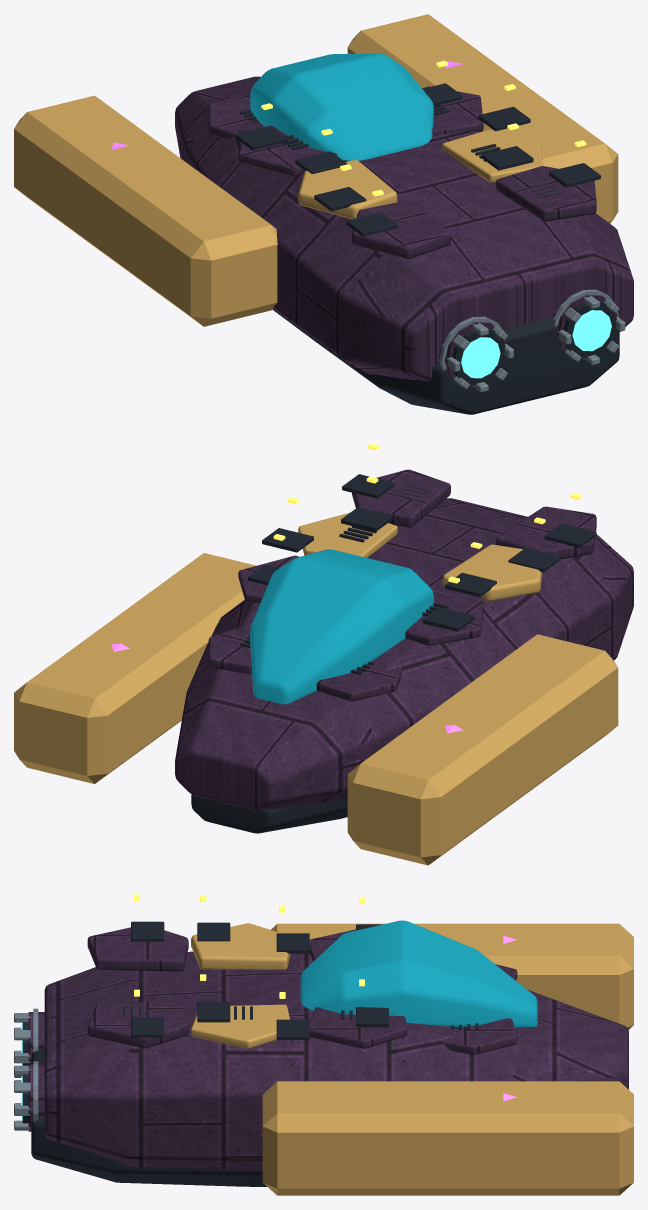
File: quartz.glb
3 views of the same model, one above another, from view 1: azimuth 30°, elevation 25°; view 2: azimuth 150°, elevation 25°; view 3: azimuth 270°, elevation 25° (orthographic). The views are drawn at different scales.
Visible parts, largest first — view 1: Gôndola do motor.041 · exportação, Colar da turbina.124 · exportação, Bocal do motor.041 · exportação, Cabine panorâmica.020 · exportação, Aleta do bocal.335 · exportação, Núcleo propulsor.041 · exportação; view 2: Colar da turbina.124 · exportação, Gôndola do motor.041 · exportação, Cabine panorâmica.020 · exportação, Bocal do motor.041 · exportação; view 3: Gôndola do motor.041 · exportação, Colar da turbina.124 · exportação, Cabine panorâmica.020 · exportação, Bocal do motor.041 · exportação, Aleta do bocal.335 · exportação.
Part boxes in pixels (x1,y1,x2,y2): Gôndola do motor.041 · exportação: (175,76,633,386); Colar da turbina.124 · exportação: (14,14,618,326); Bocal do motor.041 · exportação: (235,83,619,414); Cabine panorâmica.020 · exportação: (250,53,433,160); Aleta do bocal.335 · exportação: (439,289,625,392); Núcleo propulsor.041 · exportação: (461,310,611,378); Colar da turbina.124 · exportação: (14,512,618,865); Gôndola do motor.041 · exportação: (175,469,633,810); Cabine panorâmica.020 · exportação: (250,549,433,704); Bocal do motor.041 · exportação: (191,474,596,833); Gôndola do motor.041 · exportação: (28,927,628,1170); Colar da turbina.124 · exportação: (191,923,633,1195); Cabine panorâmica.020 · exportação: (300,920,537,1027); Bocal do motor.041 · exportação: (22,921,478,1186); Aleta do bocal.335 · exportação: (14,1008,38,1130).
Bounding box in the file's own units: 36.08 × 17.98 × 46.86.
Materials: 8 (1 with a texture image).
